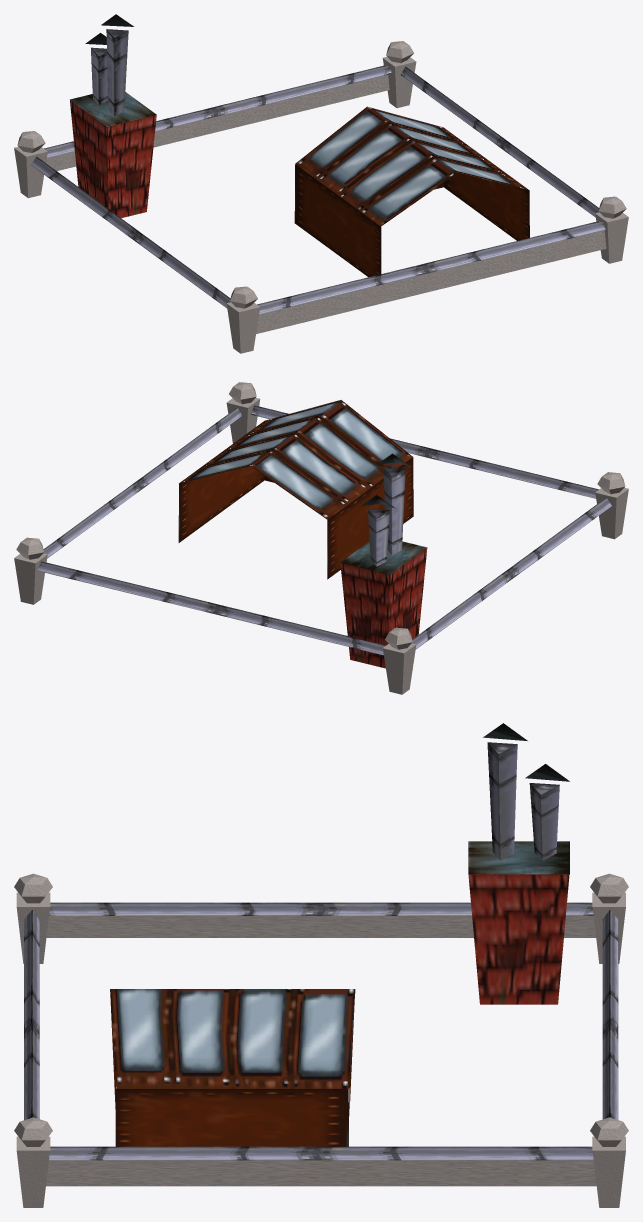
File: Dach_Füllhaus1_2371.glb
The picture shows the model from 3 angles, top to bottom: view 1: azimuth 30°, elevation 25°; view 2: azimuth 150°, elevation 25°; view 3: azimuth 270°, elevation 25°; orthographic projection. The views are drawn at different scales.
Visible parts, largest first — view 1: pPlaneShape35, pPlaneShape3, pPlaneShape37, pPlaneShape2, pPlaneShape22, pPlaneShape11, pPlaneShape38, pPlaneShape14, pPlaneShape19, pPlaneShape13, pPlaneShape16, pCylinderShape1 (+6 smaller); view 2: pPlaneShape35, pPlaneShape10, pPlaneShape21, pPlaneShape38, pPlaneShape37, pPlaneShape13, pPlaneShape16, pPlaneShape15, pPlaneShape19, pCylinderShape1, pPlaneShape23, pCylinderShape2 (+8 smaller); view 3: pPlaneShape35, pPlaneShape4, pPlaneShape38, pPlaneShape20, pPlaneShape5, pPlaneShape12, pPlaneShape17, pCylinderShape1, pPlaneShape23, pCylinderShape2, pPlaneShape11, pPlaneShape10 (+10 smaller).
Boxes of the visible parts, <box> form: pPlaneShape35: <box>295,106,528,226</box>; pPlaneShape3: <box>256,230,606,333</box>; pPlaneShape37: <box>295,164,381,277</box>; pPlaneShape2: <box>46,75,389,170</box>; pPlaneShape22: <box>107,115,156,218</box>; pPlaneShape11: <box>257,220,605,314</box>; pPlaneShape38: <box>443,173,529,240</box>; pPlaneShape14: <box>44,64,391,157</box>; pPlaneShape19: <box>70,100,108,208</box>; pPlaneShape13: <box>31,156,230,308</box>; pPlaneShape16: <box>400,66,599,217</box>; pCylinderShape1: <box>106,29,128,116</box>; pPlaneShape35: <box>179,400,412,519</box>; pPlaneShape10: <box>37,561,385,655</box>; pPlaneShape21: <box>340,563,389,668</box>; pPlaneShape38: <box>178,466,264,542</box>; pPlaneShape37: <box>327,457,413,579</box>; pPlaneShape13: <box>412,497,611,649</box>; pPlaneShape16: <box>43,407,242,558</box>; pPlaneShape15: <box>251,405,598,498</box>; pPlaneShape19: <box>389,548,427,638</box>; pCylinderShape1: <box>383,467,405,554</box>; pPlaneShape23: <box>340,541,427,574</box>; pCylinderShape2: <box>368,508,389,566</box>; pPlaneShape35: <box>110,989,355,1088</box>; pPlaneShape4: <box>46,1160,596,1186</box>; pPlaneShape38: <box>115,1089,348,1146</box>; pPlaneShape20: <box>468,874,569,1004</box>; pPlaneShape5: <box>46,916,595,937</box>; pPlaneShape12: <box>49,1146,593,1160</box>; pPlaneShape17: <box>49,902,593,915</box>; pCylinderShape1: <box>487,742,517,874</box>; pPlaneShape23: <box>468,841,569,874</box>; pCylinderShape2: <box>529,783,559,874</box>; pPlaneShape11: <box>24,910,32,1120</box>; pPlaneShape10: <box>610,910,618,1119</box>.
Bounding box in the file's own units: 1.05 × 0.5031 × 1.05.
Materials: 50 (50 with a texture image).
